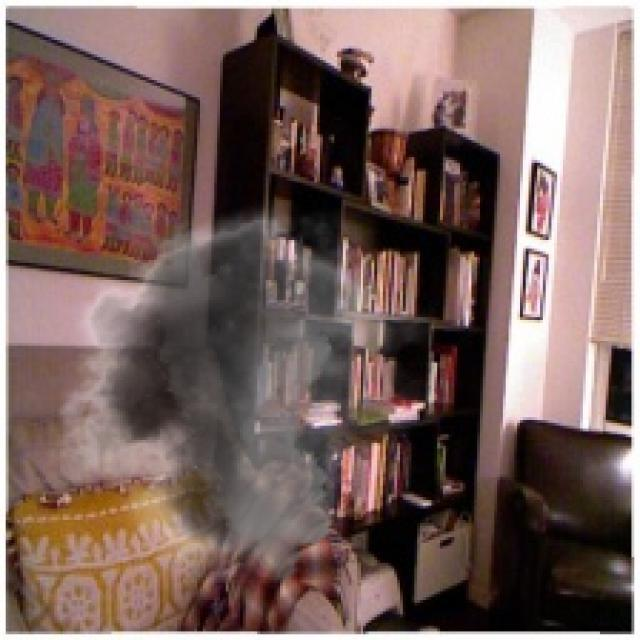smoke: (37, 188, 437, 583)
